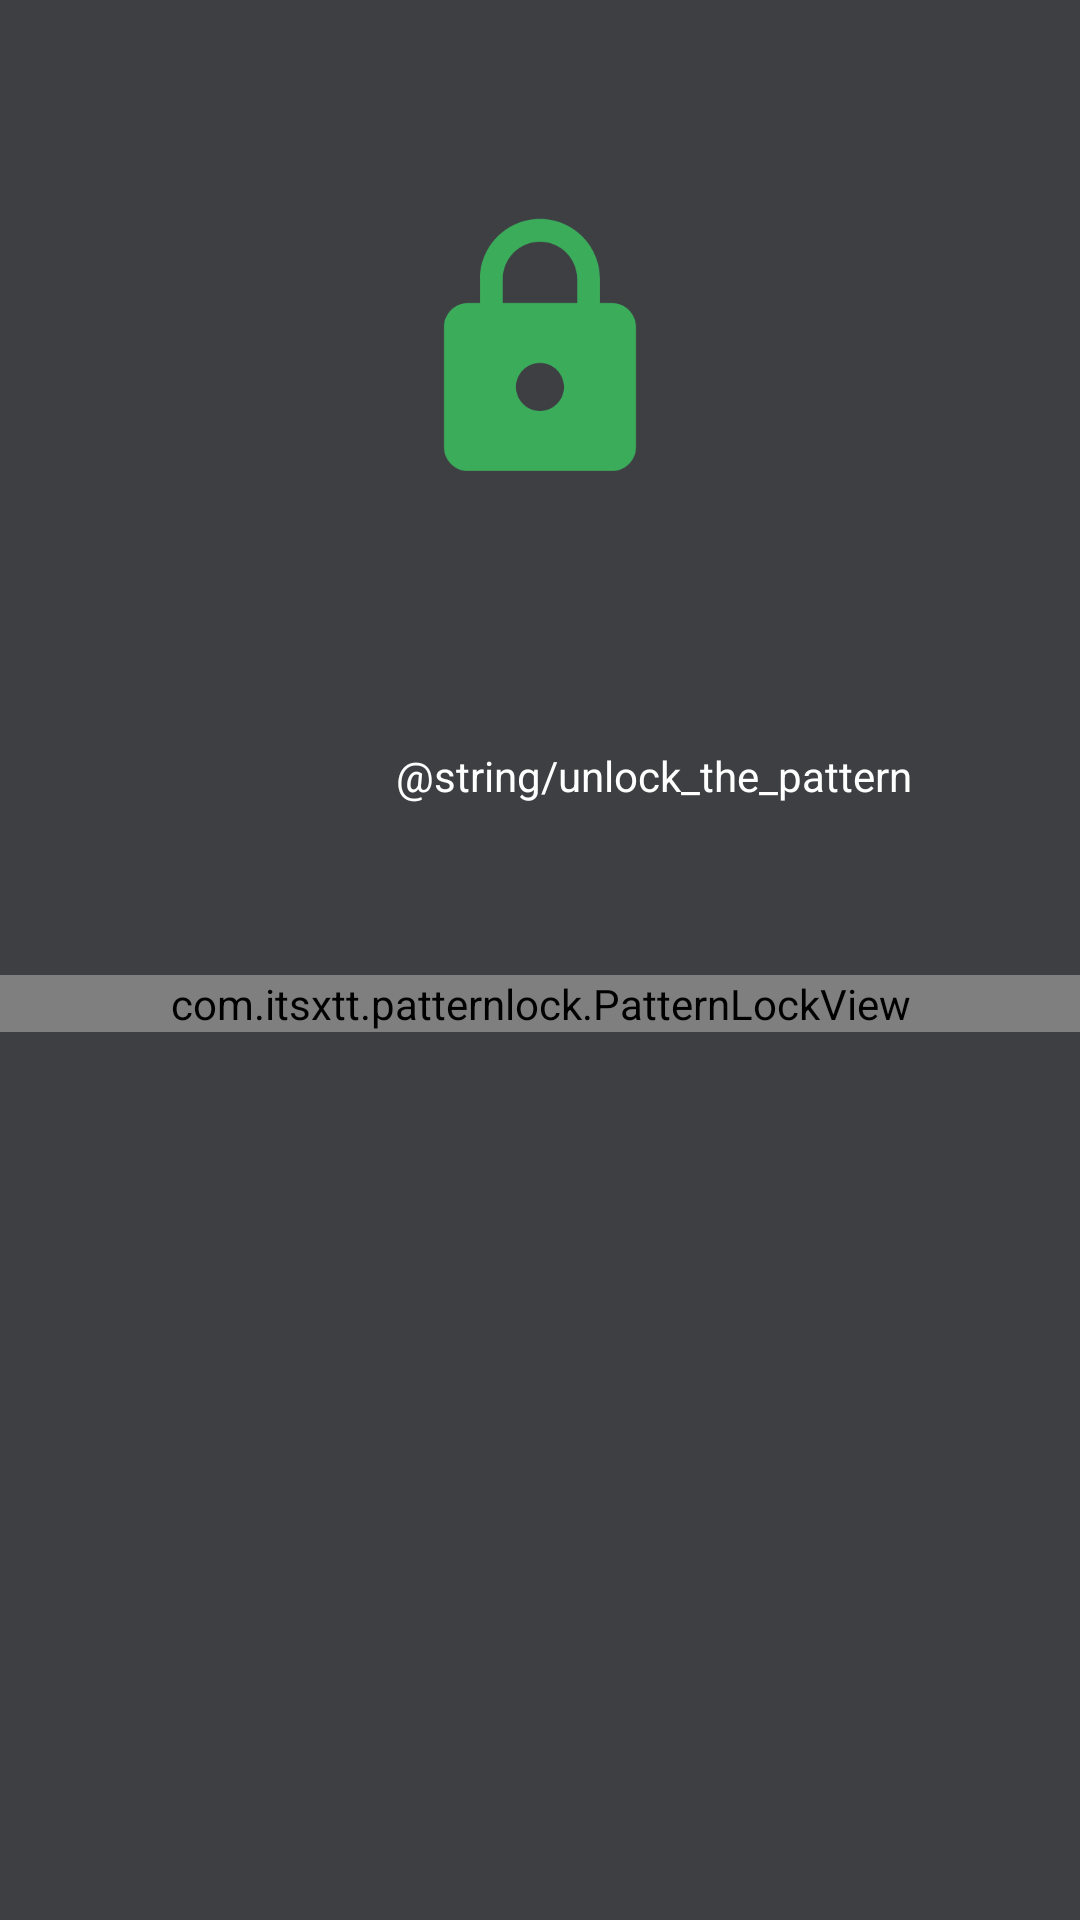

Icon bounding boxes for this 1080 x 1920 phone screenshot, format bbox=[x1, y1, x2, y2]:
lock: bbox=[444, 219, 636, 471]
